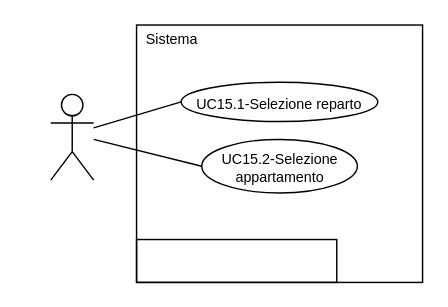
Image size: 448x307. Some labels were removed from this diagram. Each missing label, with the centre of its shape:
"Amministratore" goes at (x=71, y=136).
"UC15-Aggiunta assegnazione appartamento - reparto" goes at (x=236, y=260).
